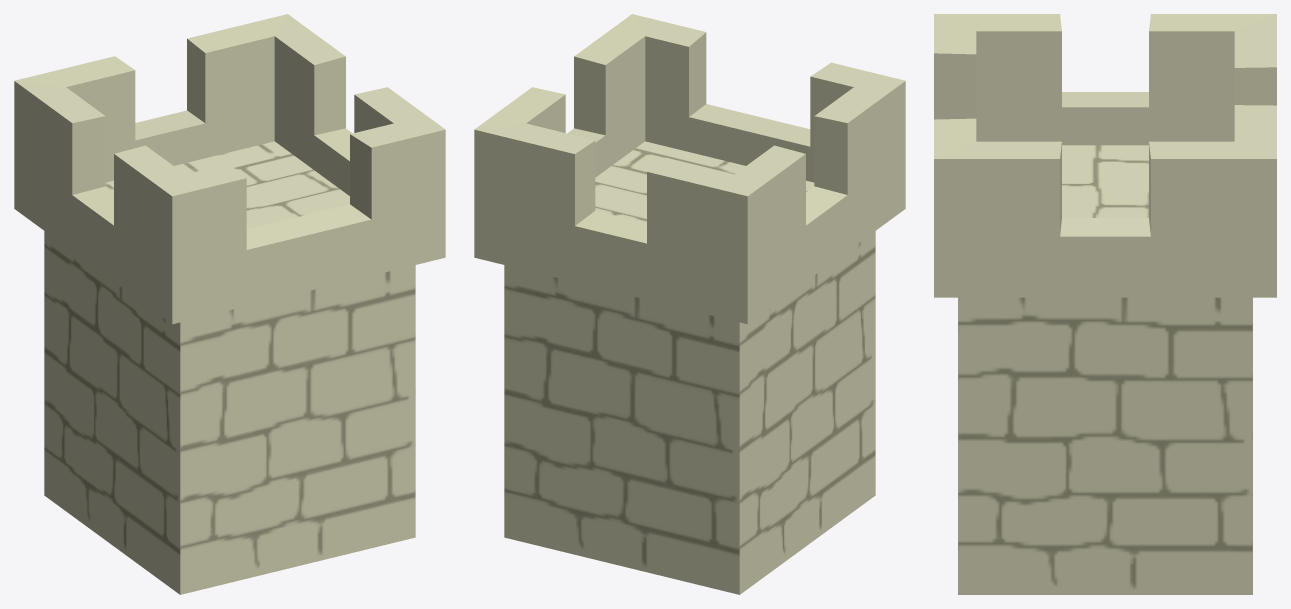
The model's file is tower_blank_test.fbx.
3 renders of one model, left to right at view 1: azimuth 30°, elevation 25°; view 2: azimuth 150°, elevation 25°; view 3: azimuth 270°, elevation 25°, orthographic. The views are drawn at different scales.
Parts seen in each view (by area): view 1: tower_blank_test; view 2: tower_blank_test; view 3: tower_blank_test.
Boxes of the visible parts, <box> form: tower_blank_test: <box>14,14,445,594</box>; tower_blank_test: <box>474,14,905,594</box>; tower_blank_test: <box>934,14,1276,594</box>.
Size of the model in its own units: 5.81 by 5.81 by 8.35.
1 material, 1 textured.
